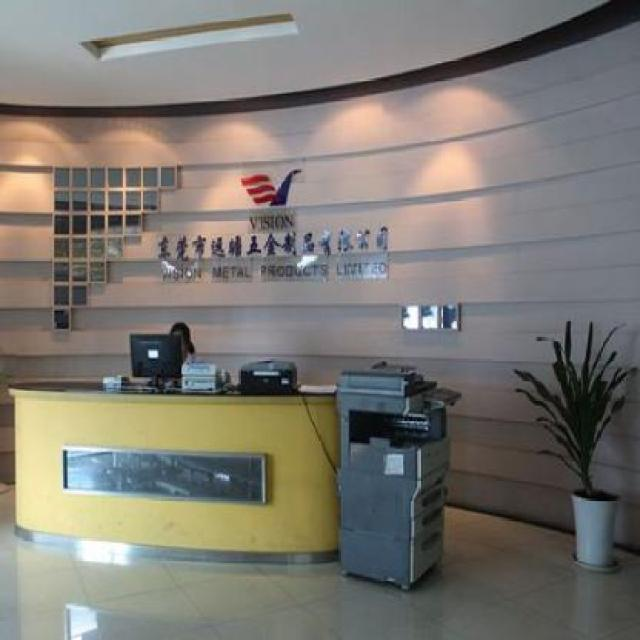frontdesk: (1, 366, 364, 568)
